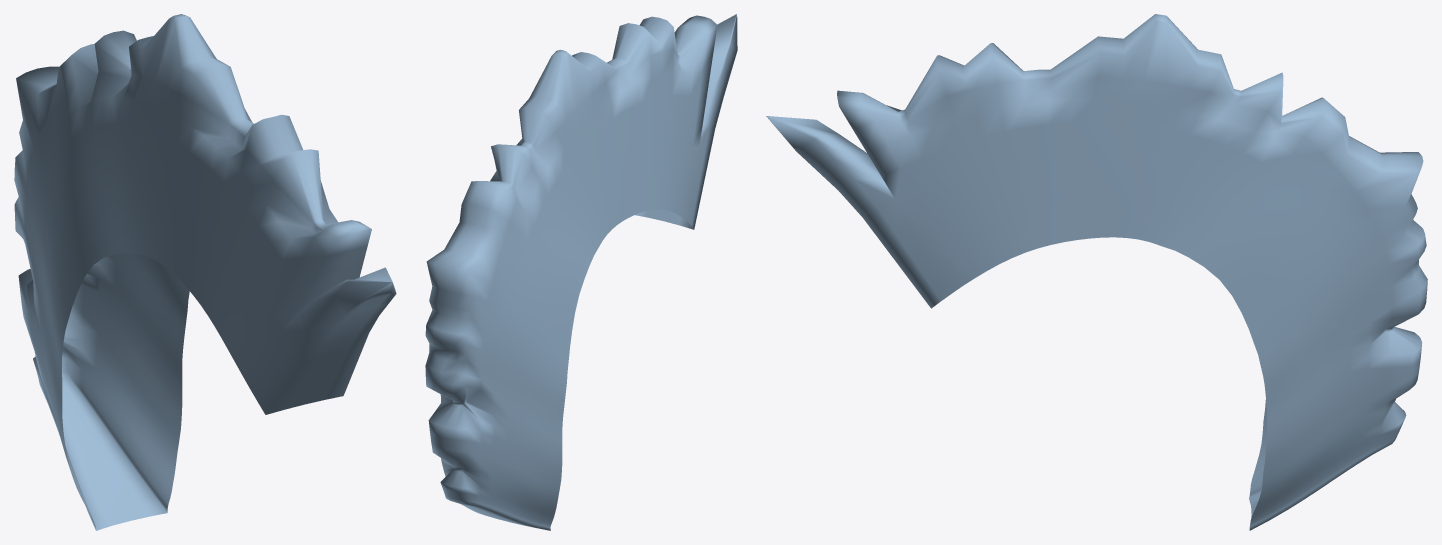
Rendered from Mane_02.fbx.
The picture shows the model from 3 angles, left to right: view 1: azimuth 30°, elevation 25°; view 2: azimuth 150°, elevation 25°; view 3: azimuth 270°, elevation 25°; orthographic projection. The views are drawn at different scales.
Parts seen in each view (by area): view 1: mane_m_punk; view 2: mane_m_punk; view 3: mane_m_punk.
Part boxes in pixels (x1,y1,x2,y2): mane_m_punk: (14, 14, 396, 530); mane_m_punk: (425, 14, 737, 530); mane_m_punk: (766, 14, 1427, 530).
Size of the model in its own units: 47.06 by 197 by 236.
